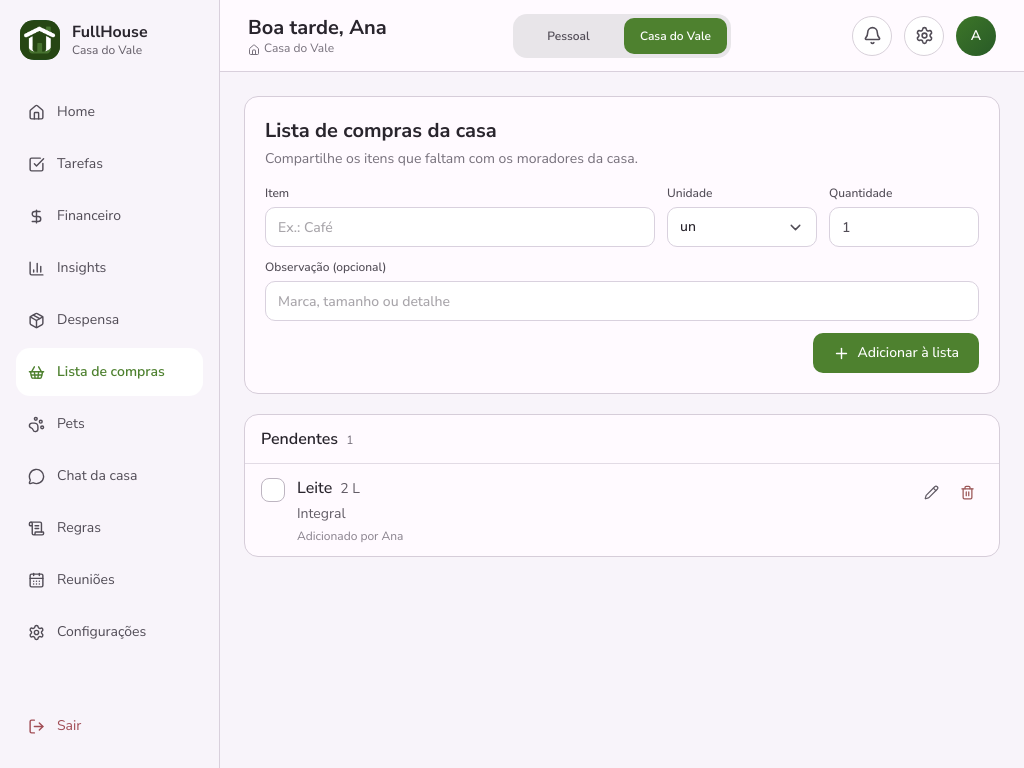
Test: ShoppingListPage › marks an item bought and supports reopening it
Step 1. Click the button named "Marcar Leite como comprado" → coordinates (273, 490), box x1=261 y1=478 x2=285 y2=502
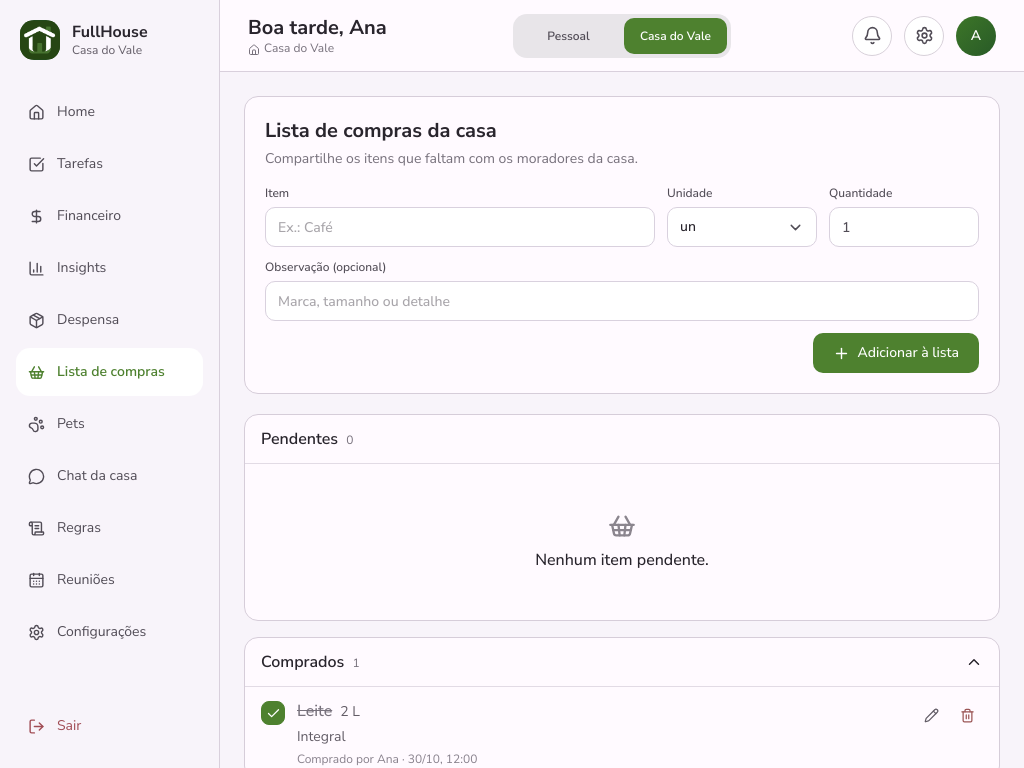
Expected: the text "Comprado por Ana · 30/10, 12:00" is shown, x1=297 y1=751 x2=477 y2=767
Expected: the text "Nenhum item pendente." is shown, x1=535 y1=549 x2=709 y2=571
Step 2. Click the button named "Reabrir Leite" → coordinates (273, 713), box x1=261 y1=701 x2=285 y2=725
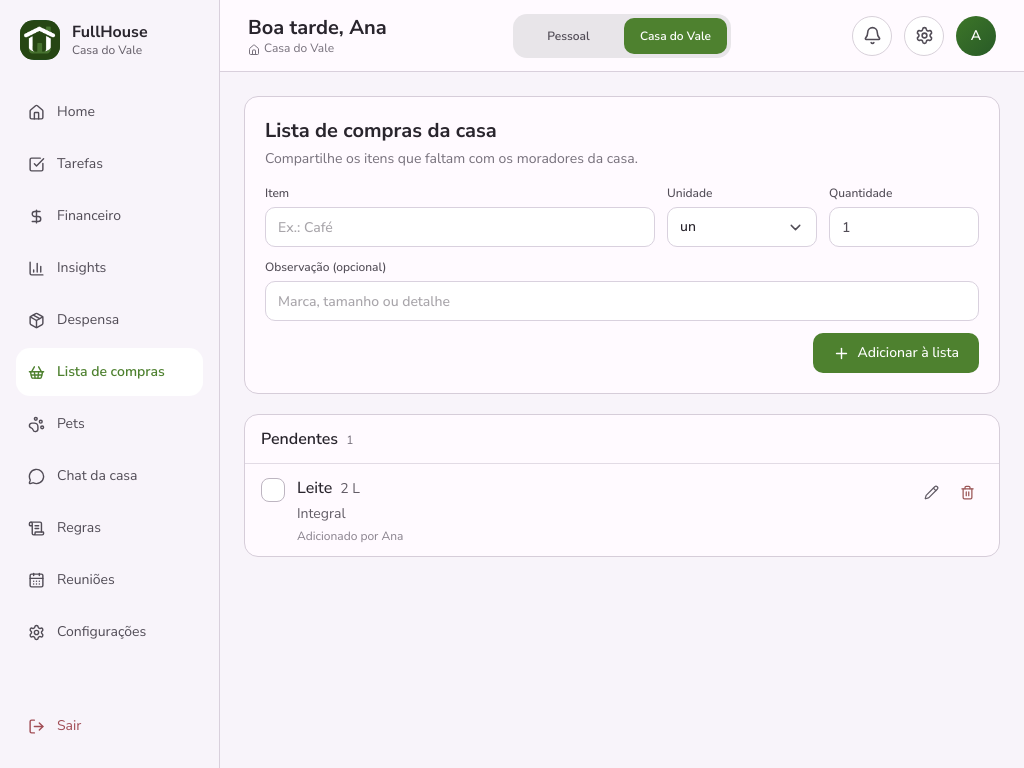
Expected: the text "Adicionado por Ana" is shown, x1=297 y1=528 x2=403 y2=544
